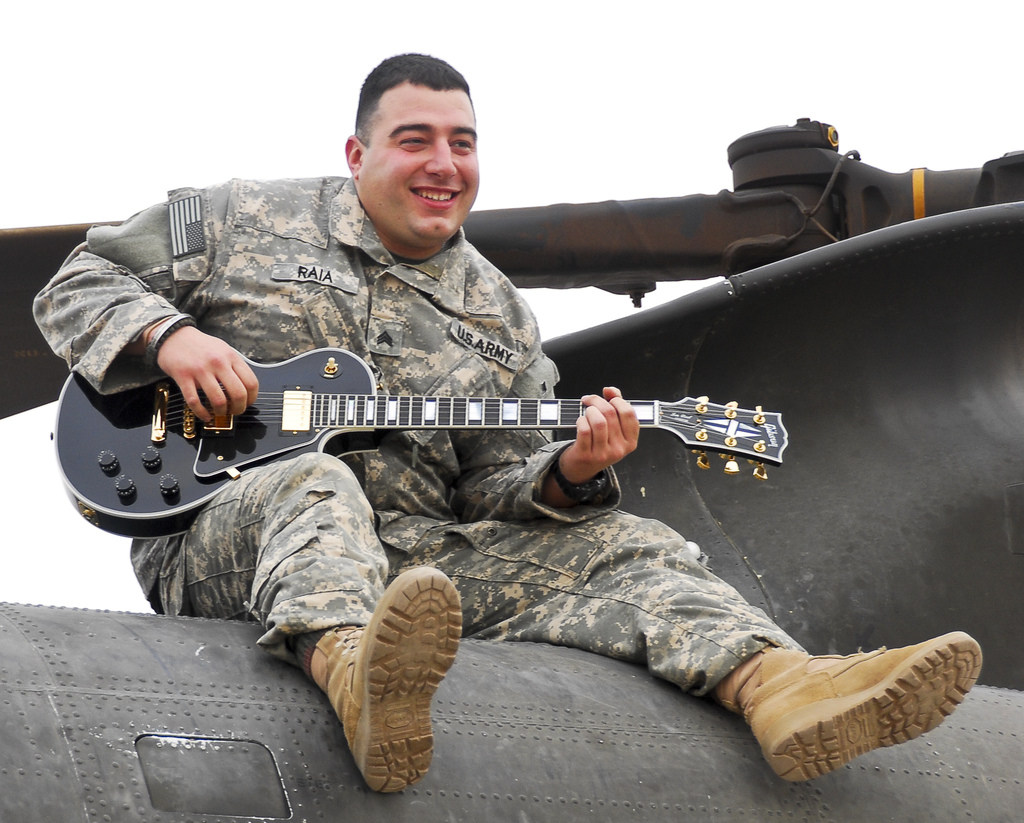Footwear: (718, 627, 985, 785), (288, 575, 454, 806)
